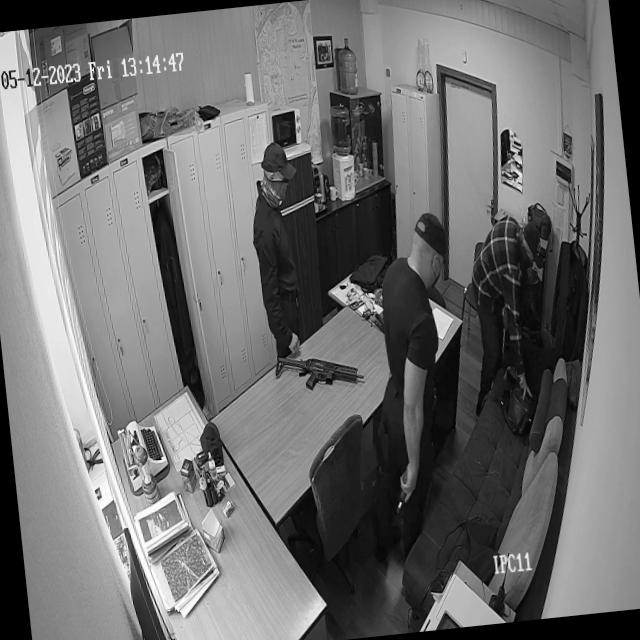gun: (272, 344, 366, 393), (392, 468, 415, 518)
person: (466, 215, 550, 402), (245, 144, 310, 352)
person with a gun: (369, 213, 468, 516)
